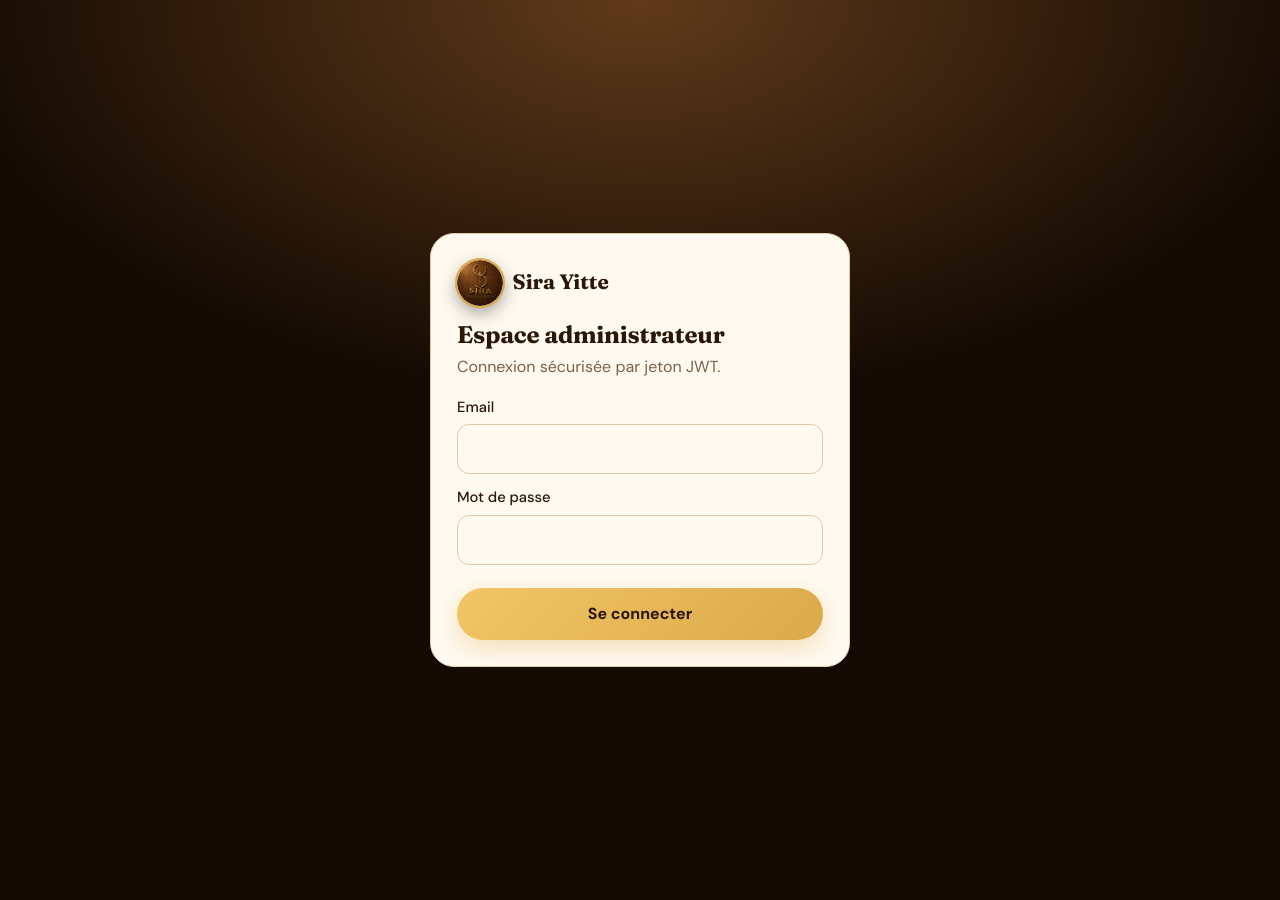
Scenario: Connexion administrateur › refuse un compte client (non administrateur)
Type "client@test.sn" into the field labelled "Email" at (640, 449), box x1=457 y1=424 x2=823 y2=474
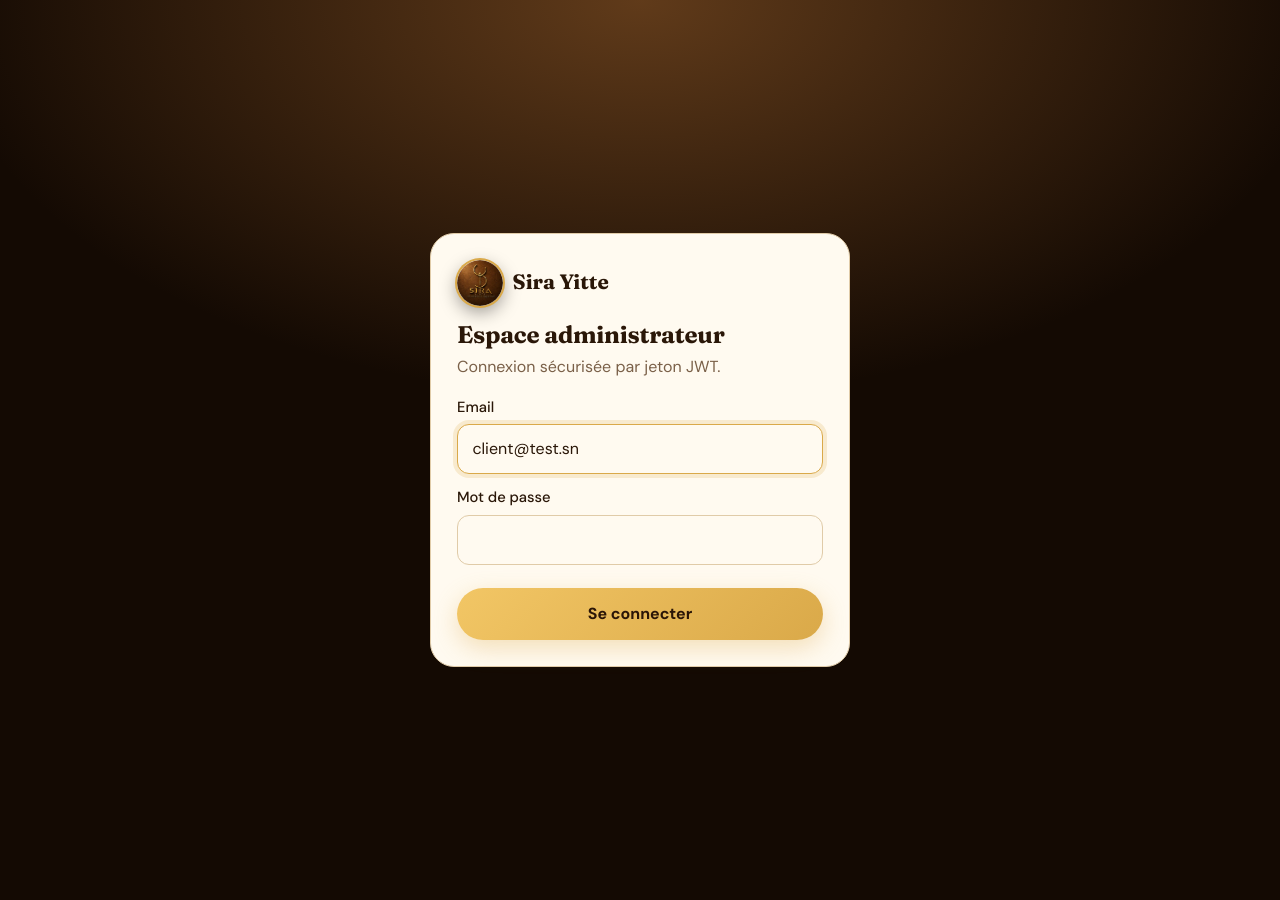
Type "secret123" into the password field labelled "Mot de passe" at (640, 540), box x1=457 y1=515 x2=823 y2=565
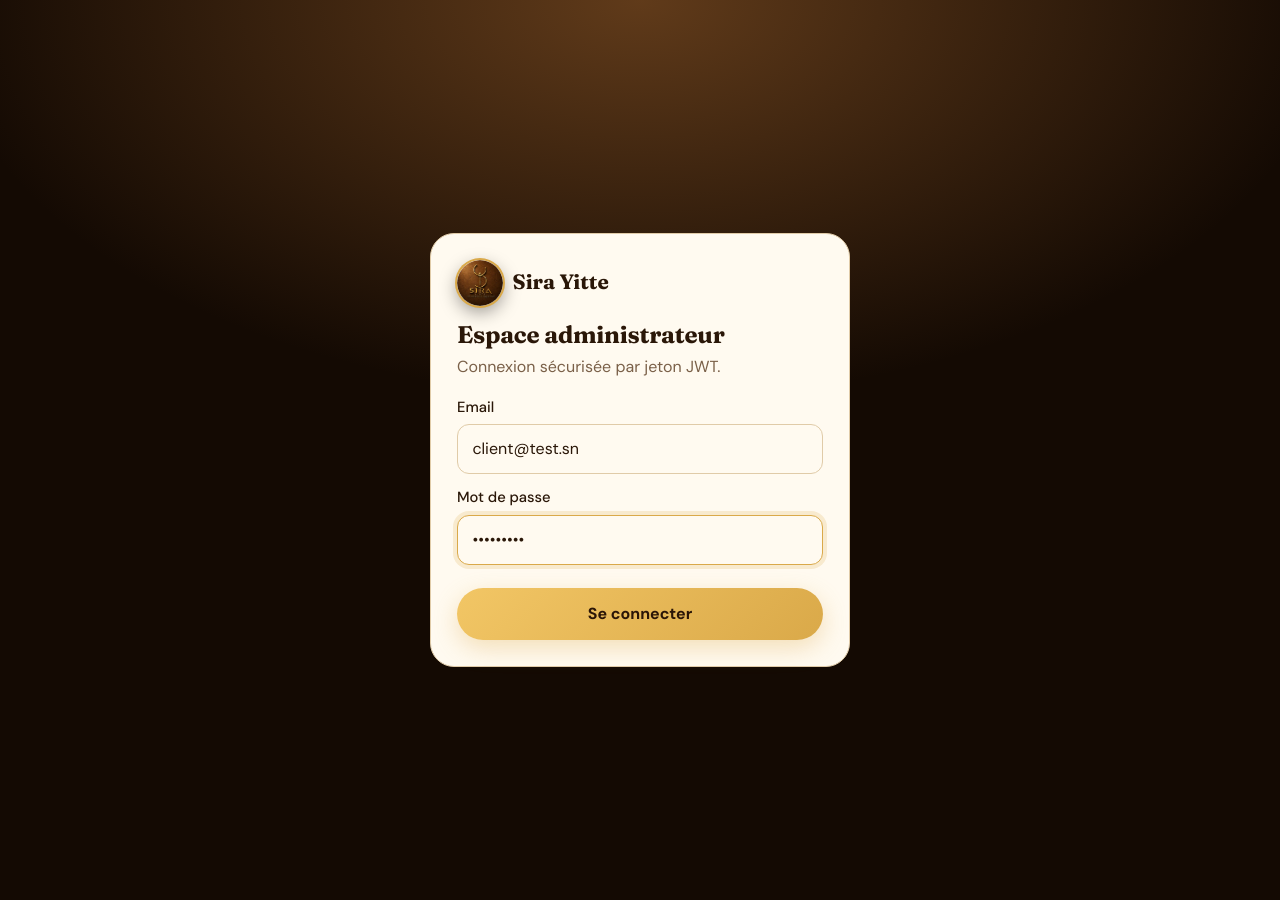
Click the button "Se connecter" at (640, 614), box x1=457 y1=588 x2=823 y2=640
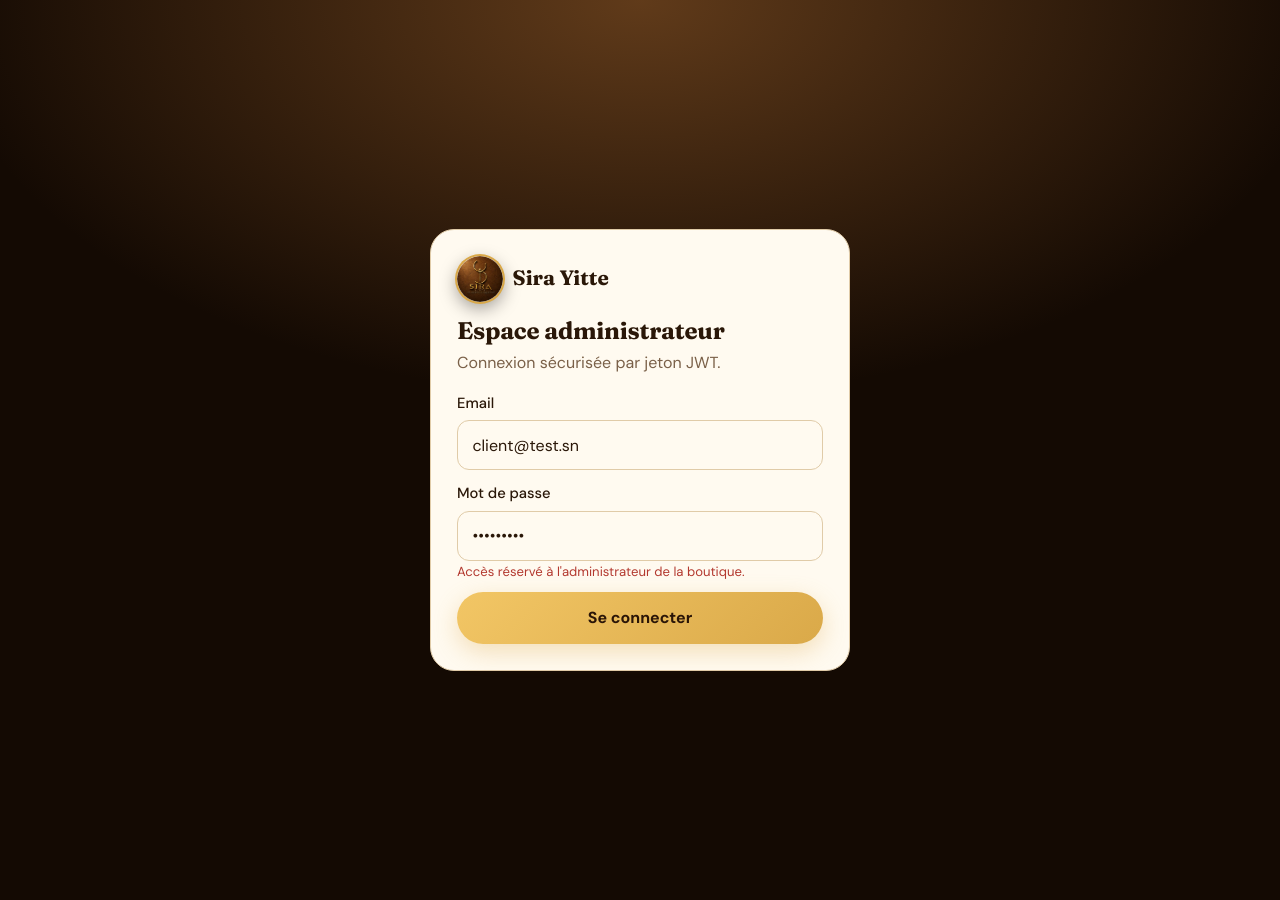
Expected: the text "Accès réservé à l'administrateur de la boutique." is shown, x1=457 y1=563 x2=744 y2=580
